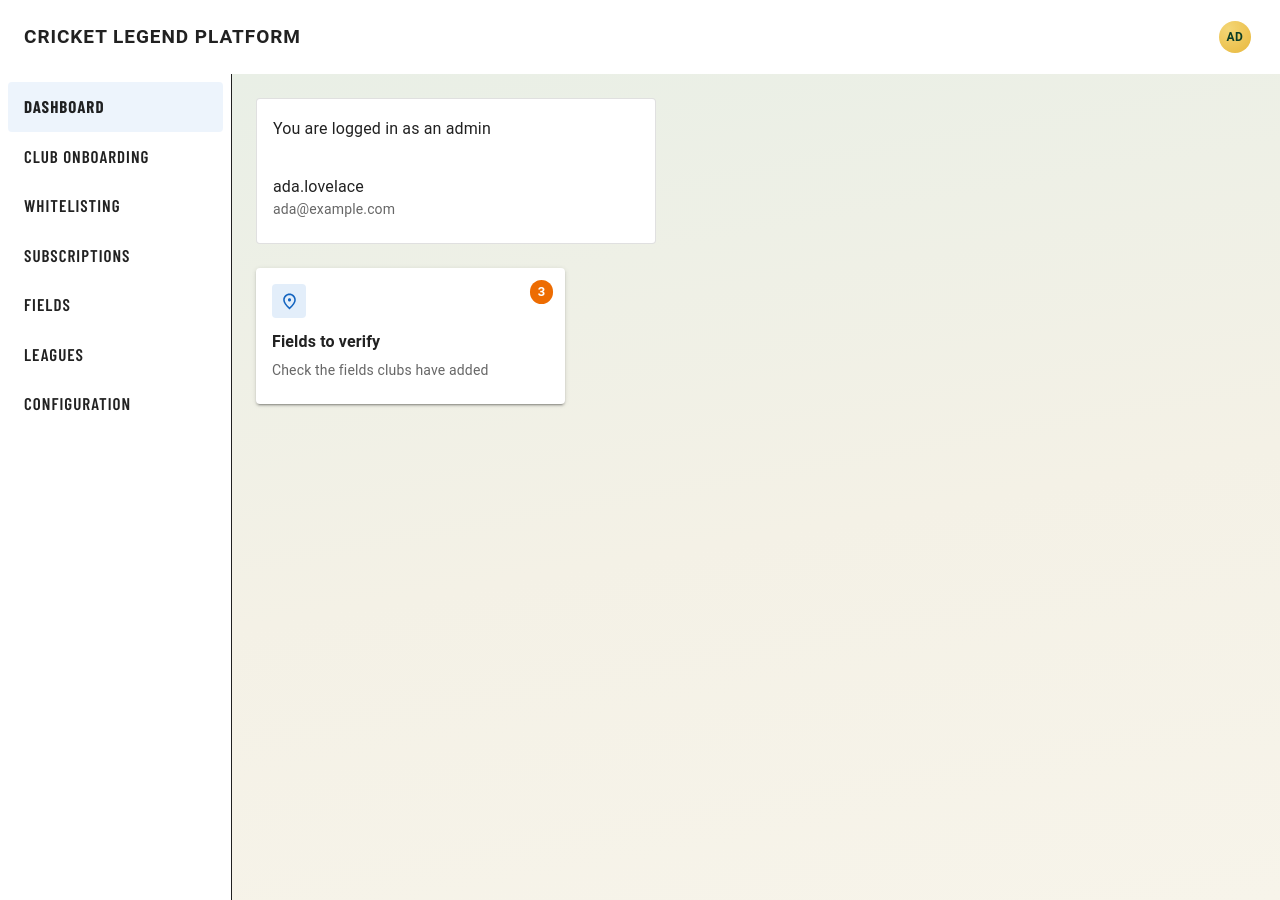
it: AdminHome › navigates to a placeholder section and renders its EmptyState
The image size is (1280, 900).
Expected: the heading "You are logged in as an admin" is shown, [273,119,491,138]
What coordinates should you click on to do the following:
click the link "Club Onboarding"
I would click on:
 (87, 156)
Its box is [24,146,150,166].
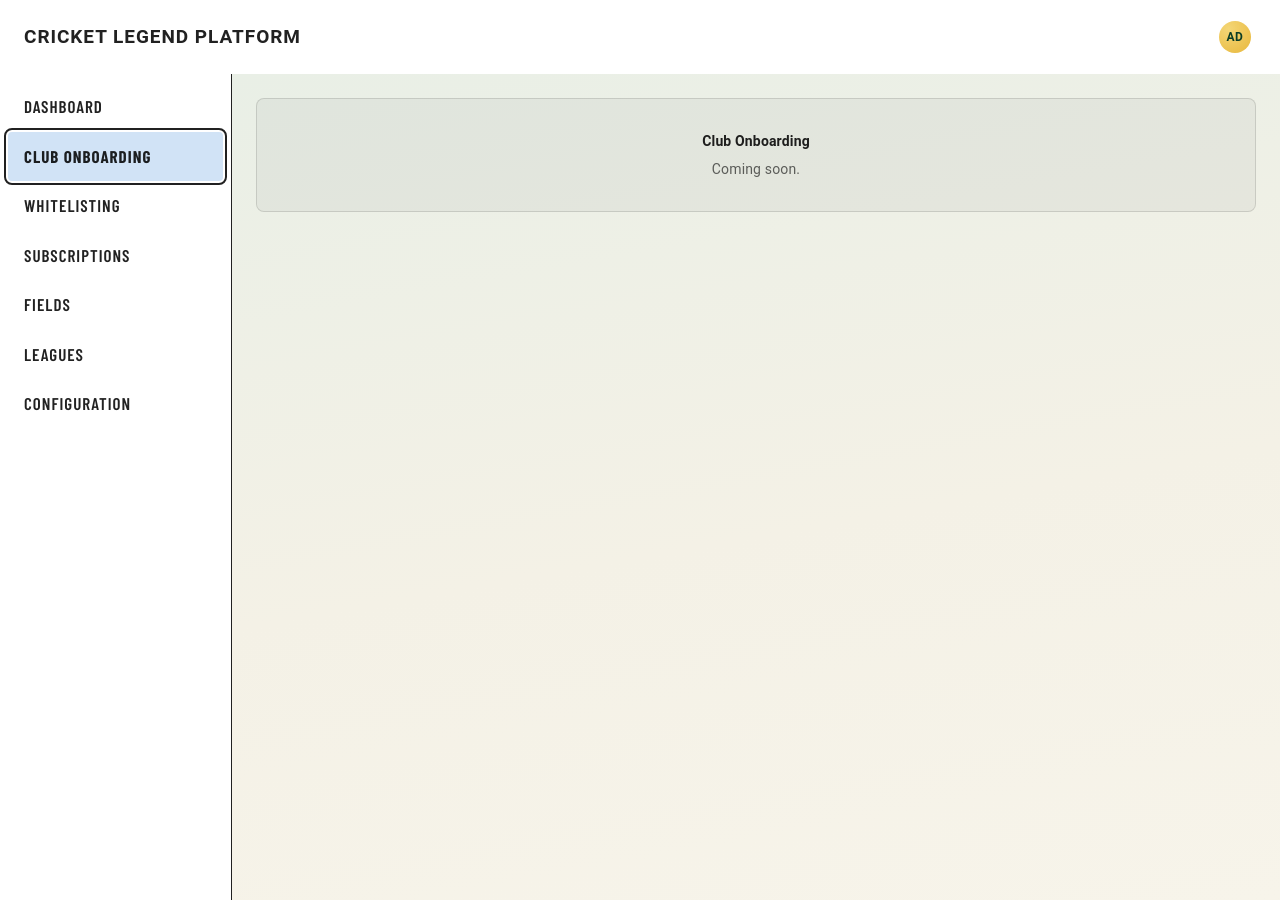
Now the text "Coming soon." is shown, box [712,159,800,179]
